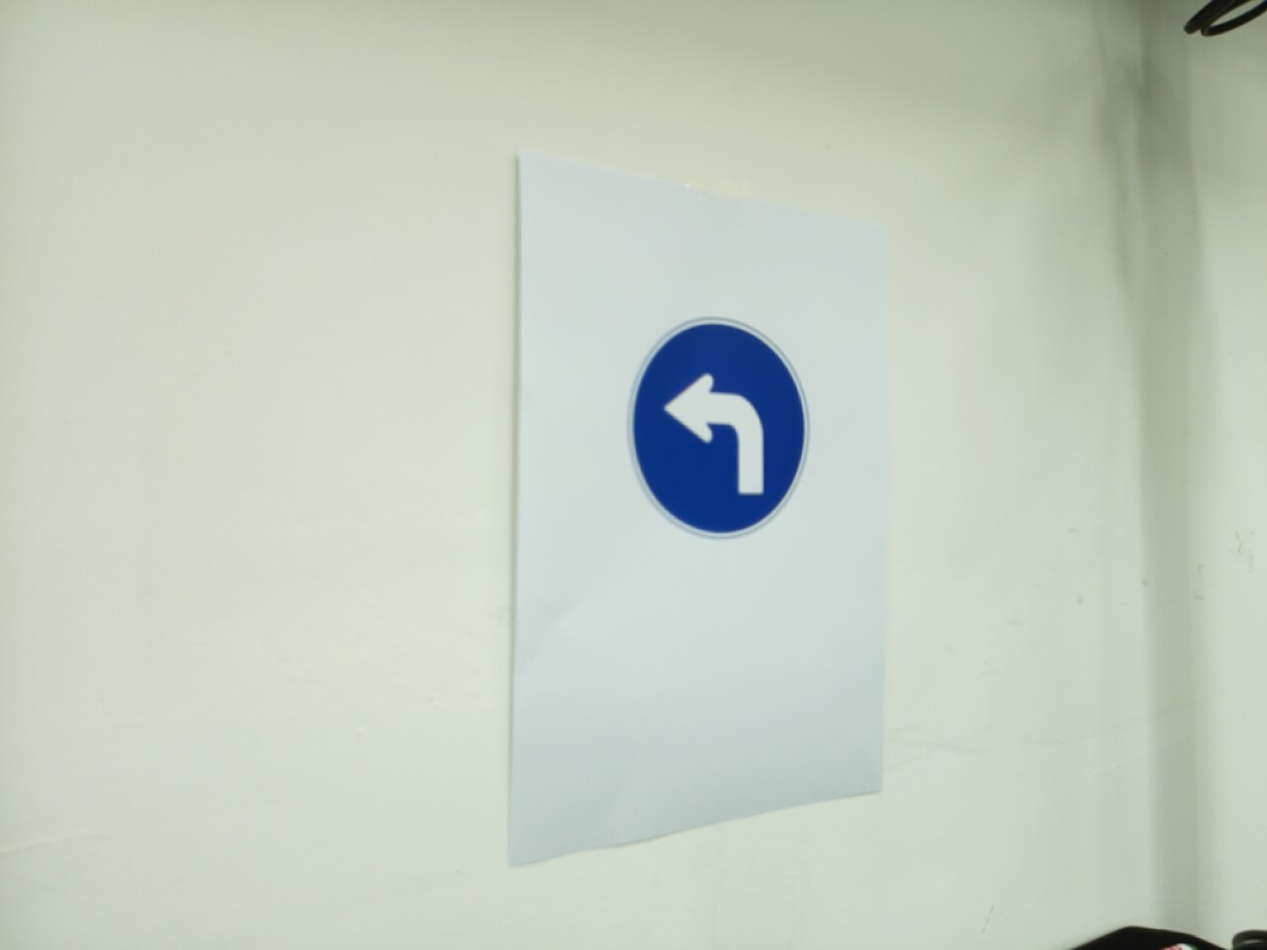left_turn: (627, 316, 812, 541)
